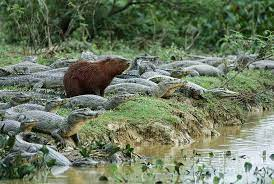capivara: (63, 57, 132, 97)
